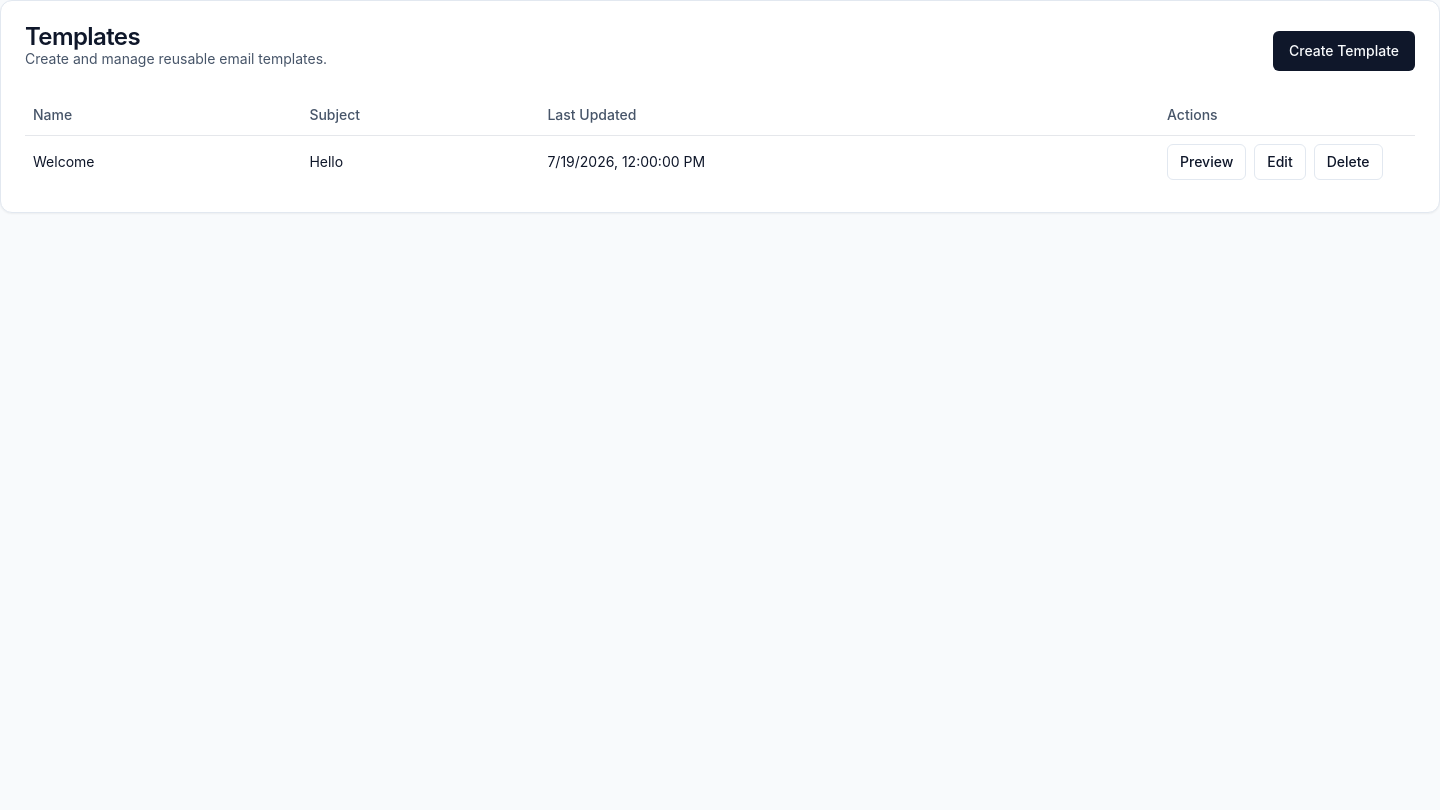
Test case: TemplatesPage › renders template preview via backend for selected customer
The width and height of the screenshot is (1440, 810).
What coordinates should you click on to do the following:
click the button "Preview"
I would click on:
 (1207, 162)
Its box is [1167,144,1246,180].
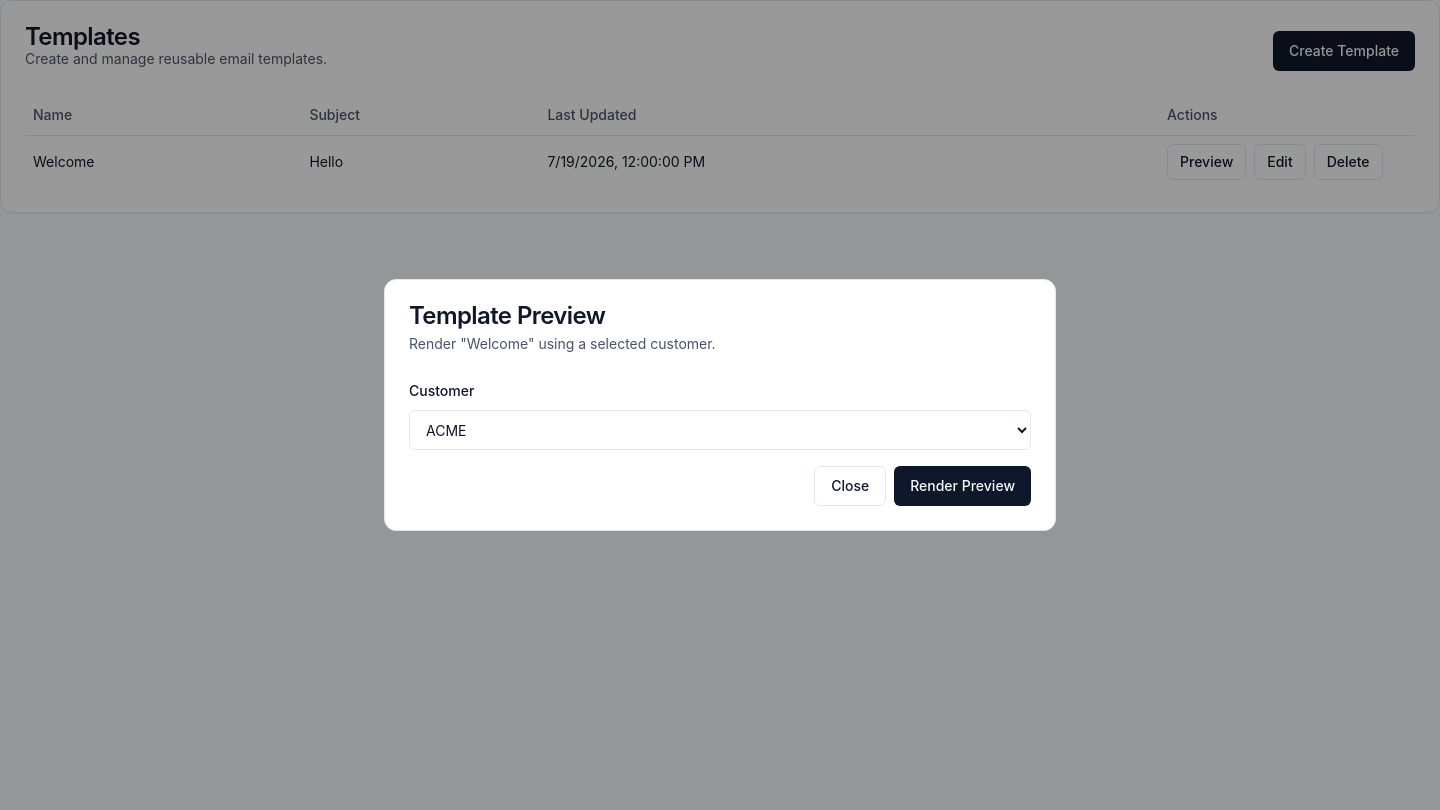
What coordinates should you click on to do the following:
click the button "Render Preview"
I would click on:
 (963, 486)
Its box is [894,466,1031,506].
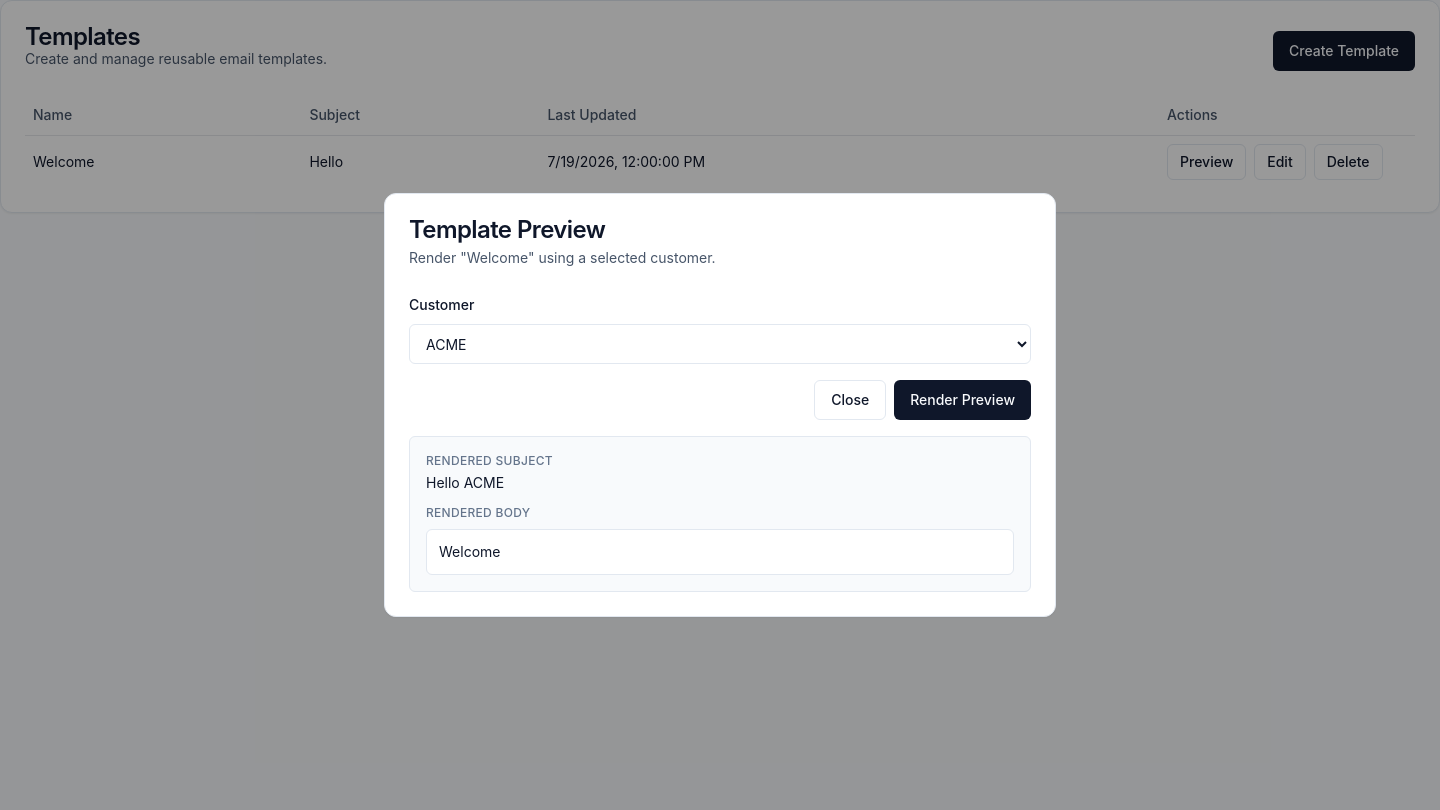
Expected: the text "Rendered Subject" is shown, [426,453,553,468]
Expected: the text "Hello ACME" is shown, [426,474,504,491]
Expected: the heading "Welcome" is shown, [439,543,500,560]
